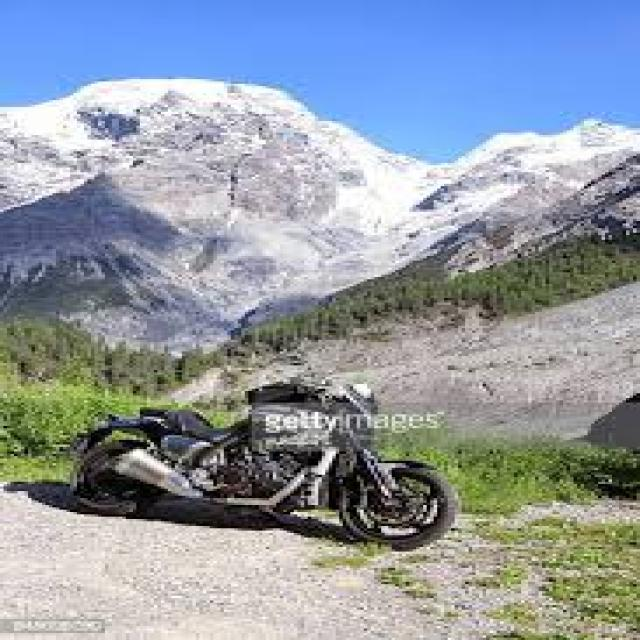bike: (68, 373, 464, 550)
